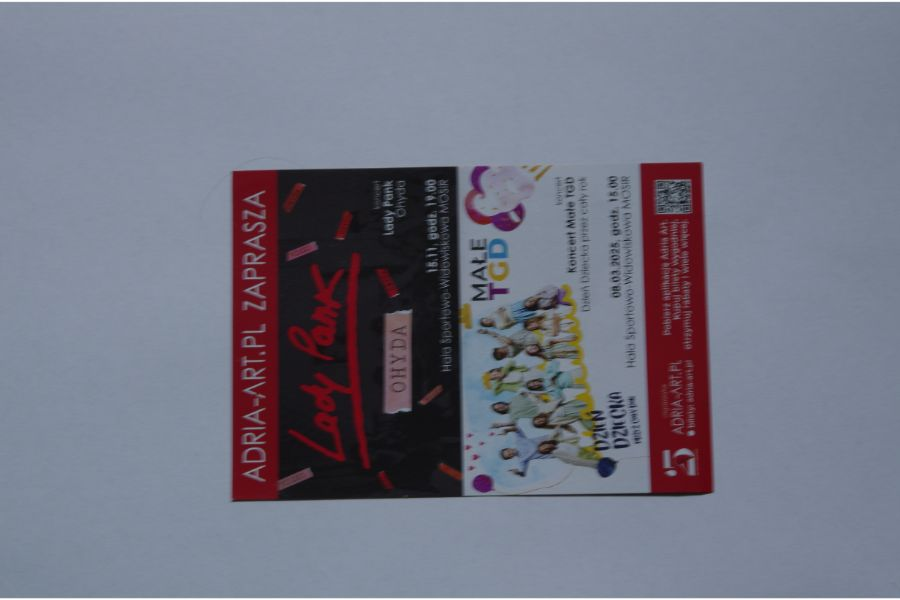album: (229, 165, 715, 502)
